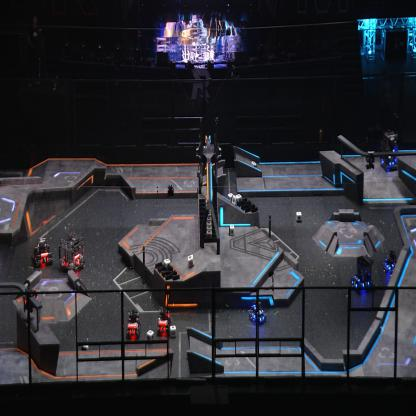car: (349, 252, 375, 294), (59, 235, 85, 272), (379, 132, 399, 172), (33, 236, 53, 268), (247, 298, 267, 326), (126, 307, 142, 340), (156, 304, 172, 334), (382, 250, 400, 276)
